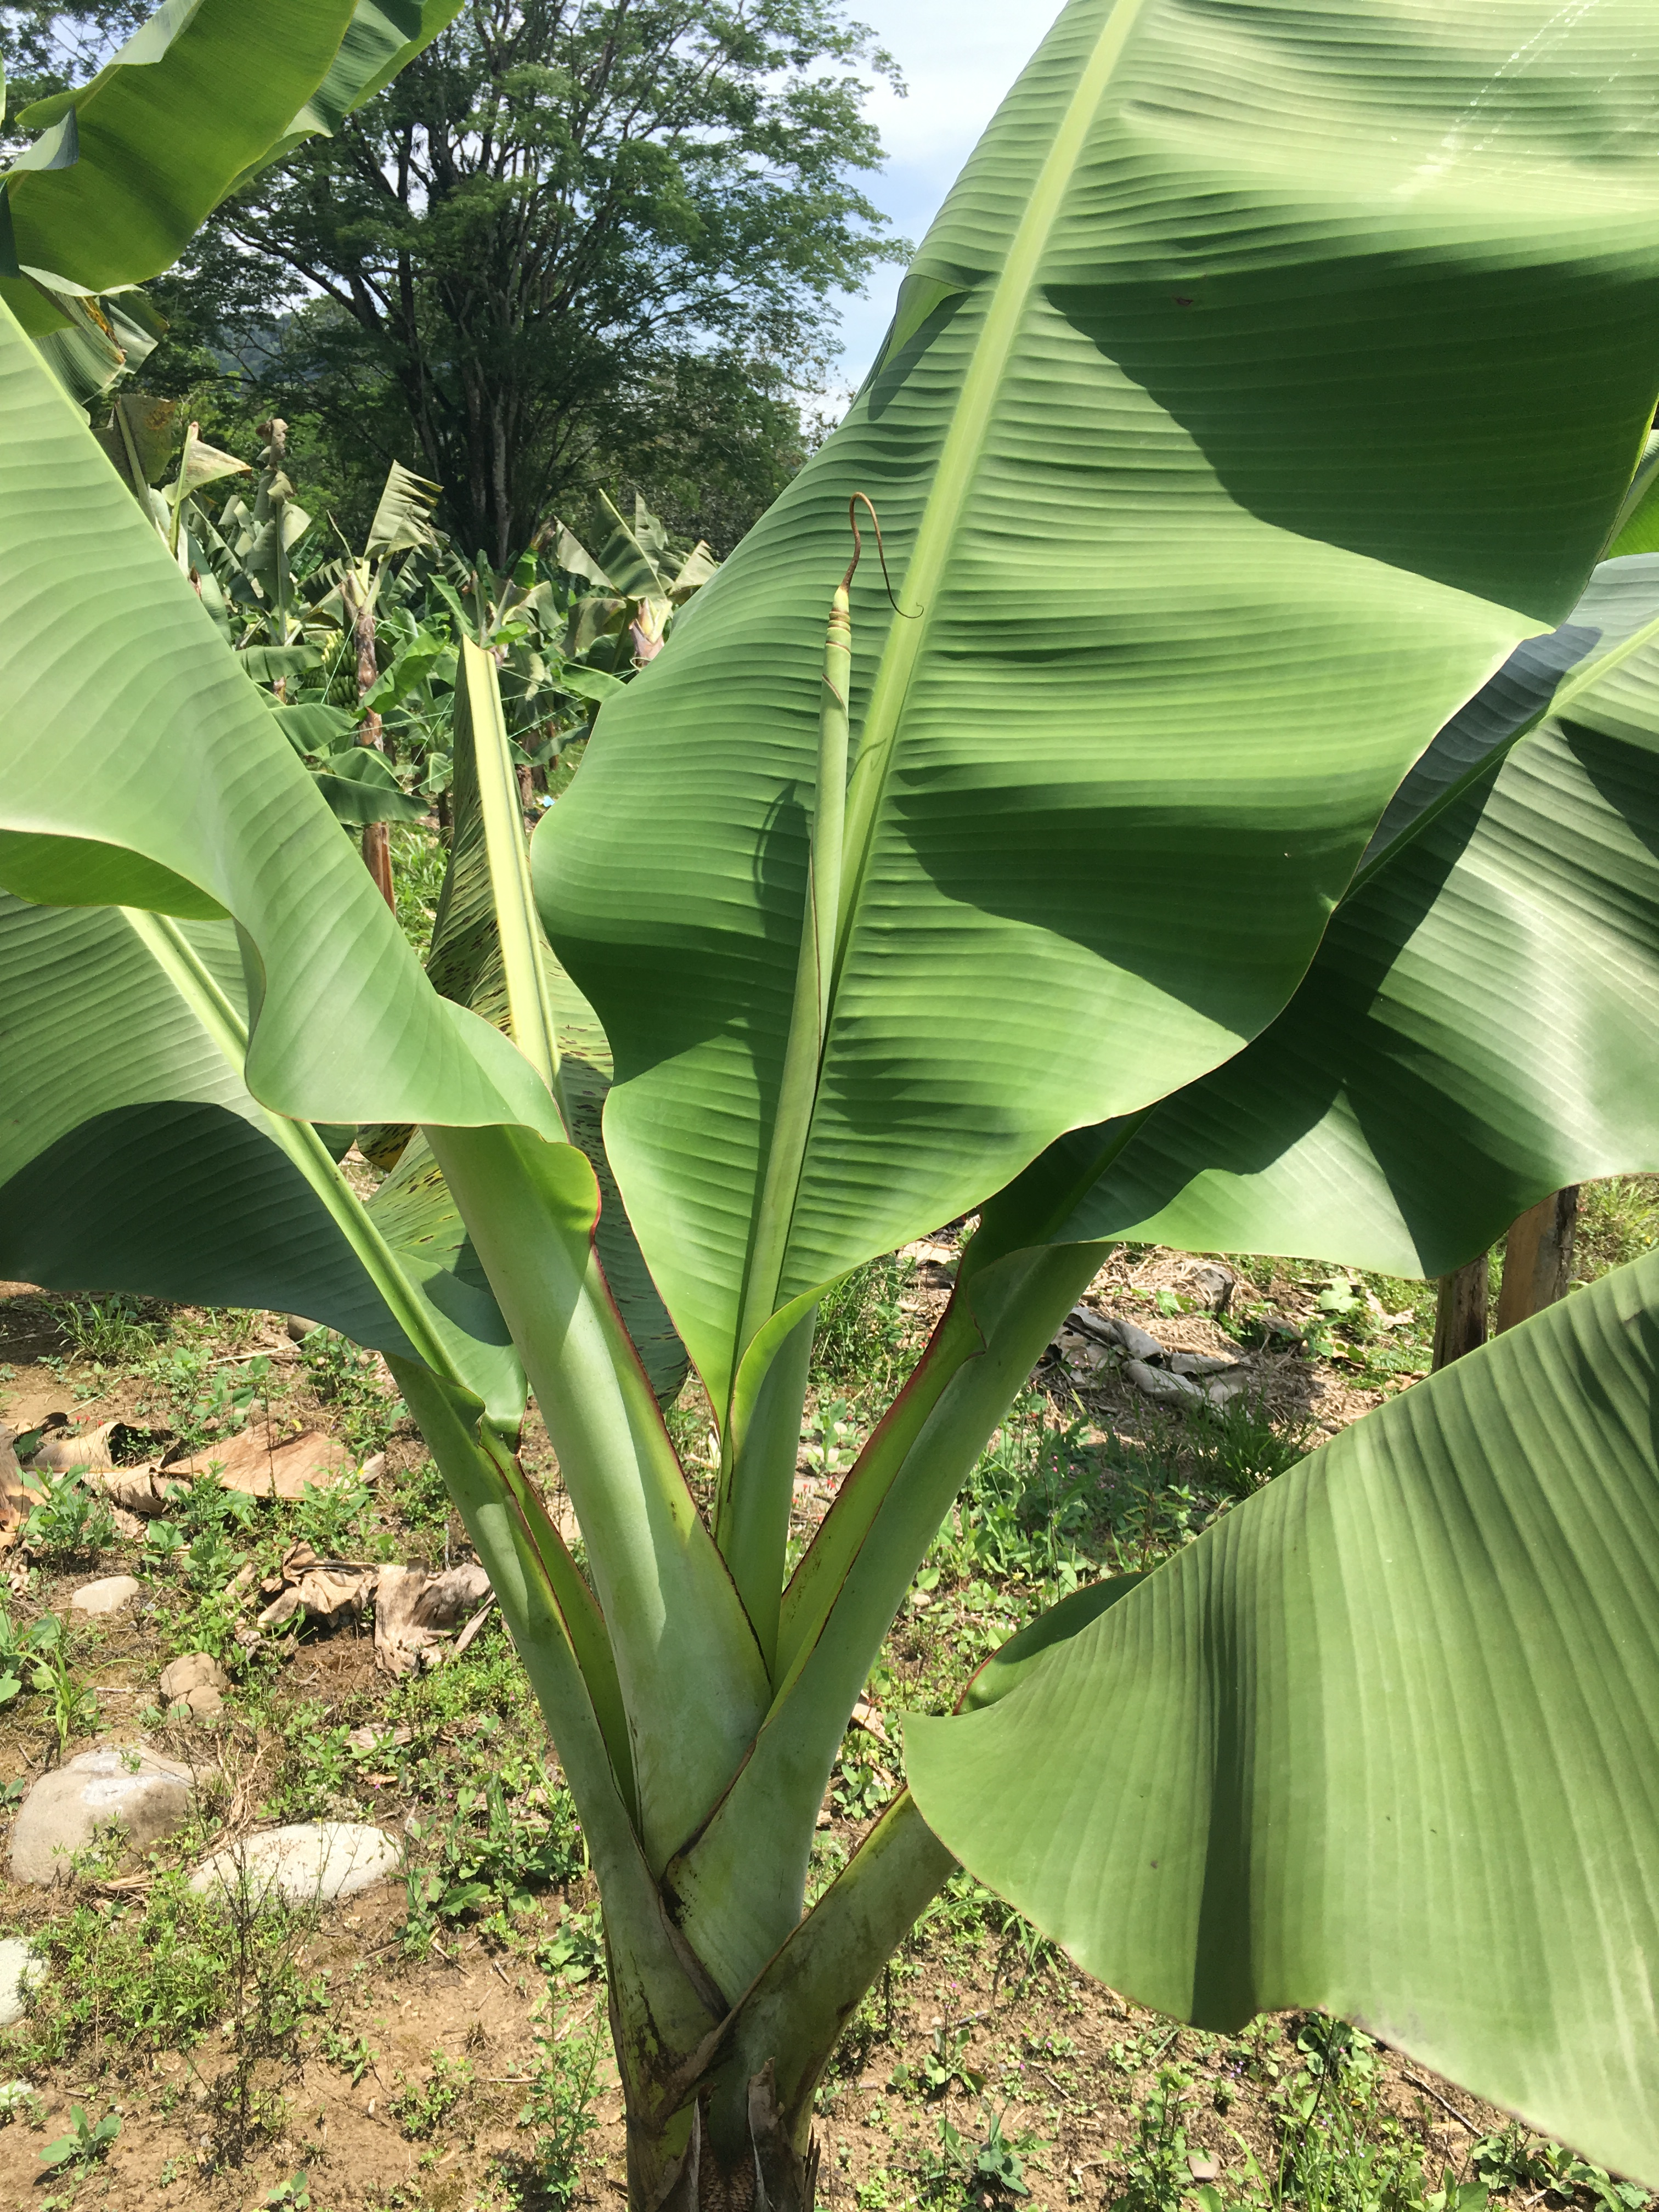candleleafs: (725, 489, 924, 1425)
